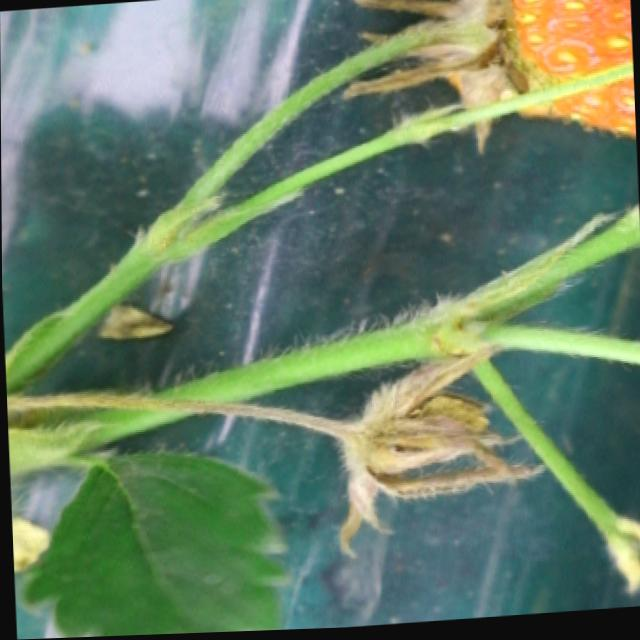Gray Mold: (284, 349, 545, 566), (342, 0, 528, 162)
